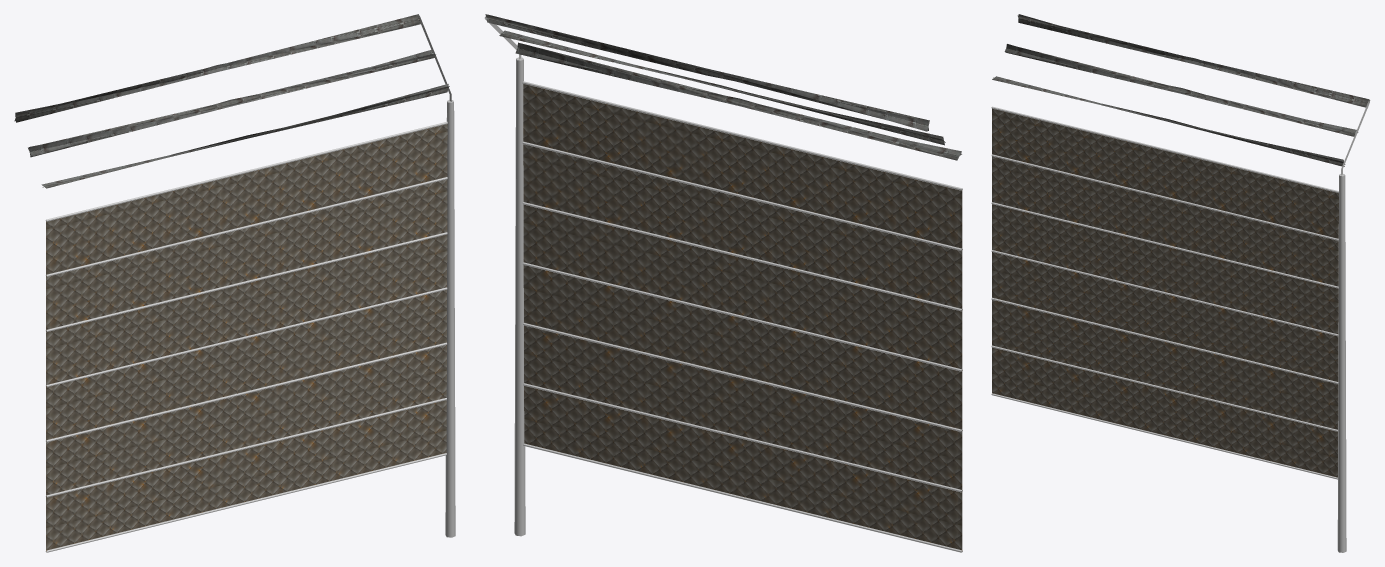
The model's file is Wire_Fence1_el1_LOD2.fbx.
3 renders of one model, left to right at view 1: azimuth 30°, elevation 25°; view 2: azimuth 150°, elevation 25°; view 3: azimuth 330°, elevation 25°, orthographic. The views are drawn at different scales.
Parts seen in each view (by area): view 1: polySurface302; view 2: polySurface302; view 3: polySurface302.
Part boxes in pixels (x1=…): polySurface302: x1=14, y1=14, x2=455, y2=552; polySurface302: x1=484, y1=14, x2=962, y2=552; polySurface302: x1=991, y1=14, x2=1370, y2=552.
Size of the model in its own units: 4.05 by 4.72 by 0.6057.
